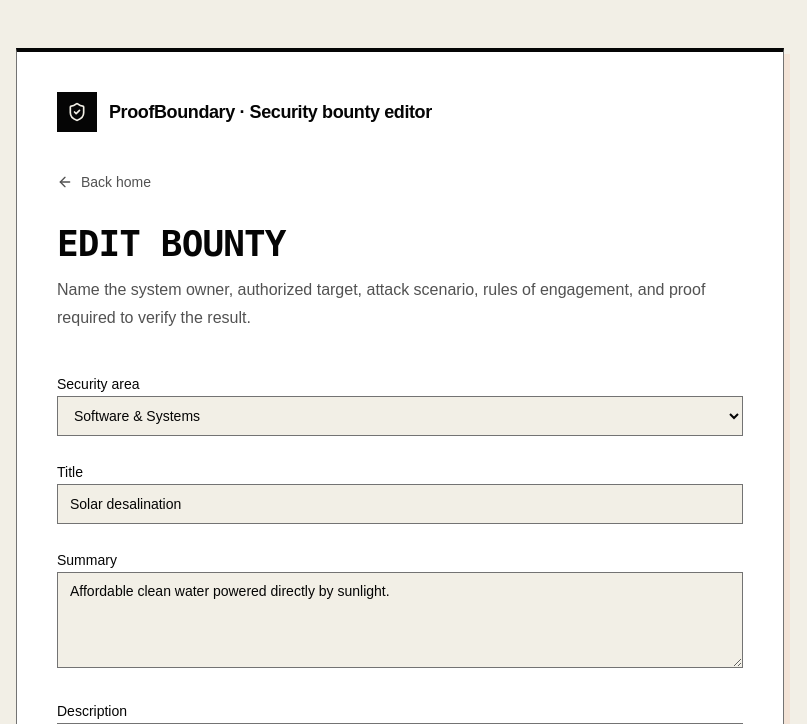
Test: IdeaEditorPage › loads and updates an existing draft
Expected: the heading "Edit bounty" is shown, [57,223,286,264]
Replace the text in the field labelled "Title" with "Updated solar desalination". click: (400, 504)
box: [57,484,743,524]
(page scrolled)
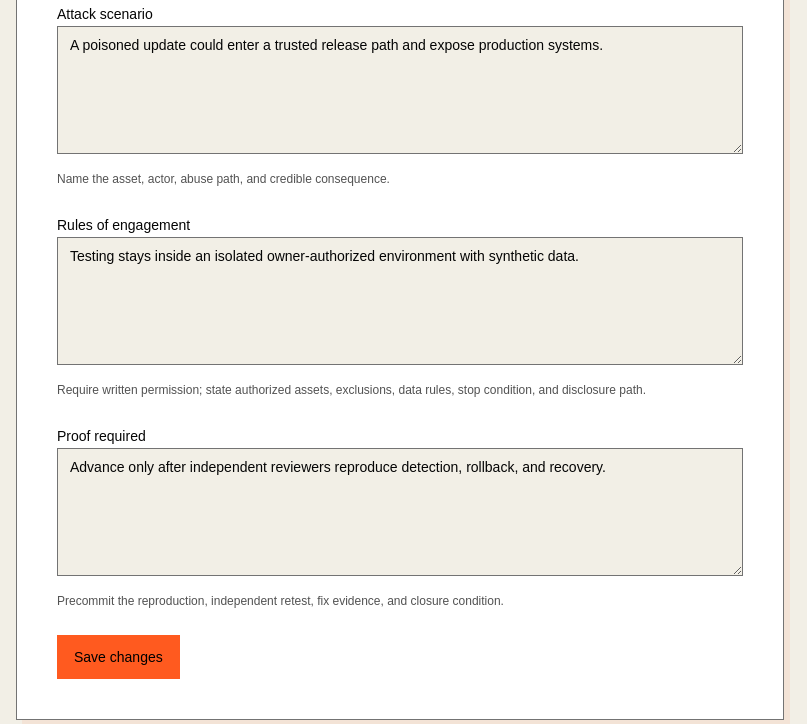
Click the button "Save changes". click: (118, 657)
box: [57,635,180,679]
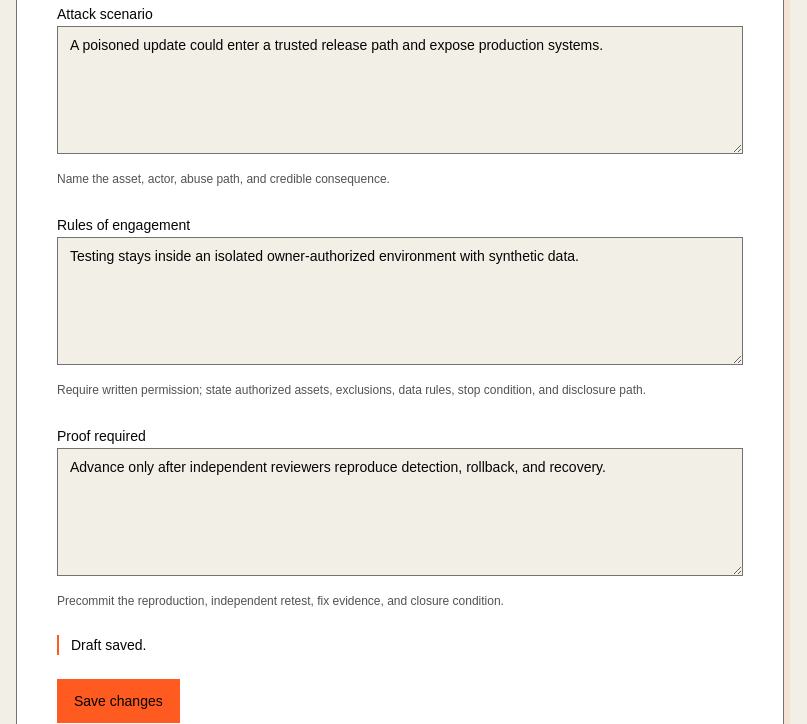
Expected: the message shows "Draft saved", [71,637,146,653]
